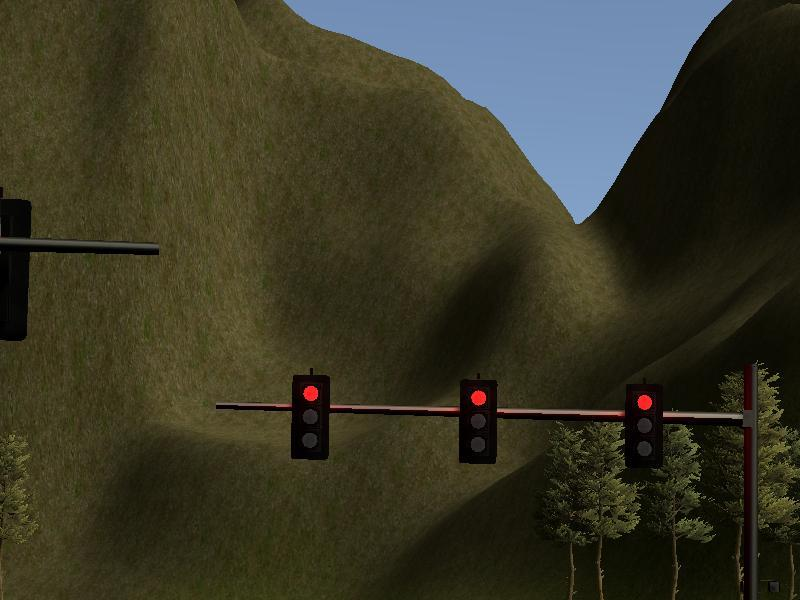Red: (625, 385, 662, 468), (292, 374, 328, 459), (460, 379, 496, 462)
